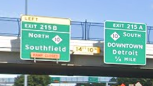0: (89, 46, 94, 54)
1: (74, 45, 78, 53), (86, 46, 90, 54)
4: (77, 45, 82, 53)
overheadsign: (72, 44, 101, 55)
